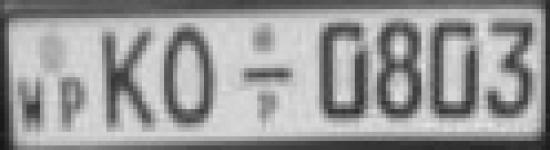-: (238, 60, 298, 91)
0: (160, 20, 224, 133), (310, 14, 374, 127), (424, 13, 486, 125)
3: (486, 14, 536, 126)
8: (372, 14, 426, 125)
K: (97, 21, 160, 138)
P: (51, 74, 91, 135)
W: (16, 73, 47, 136)
